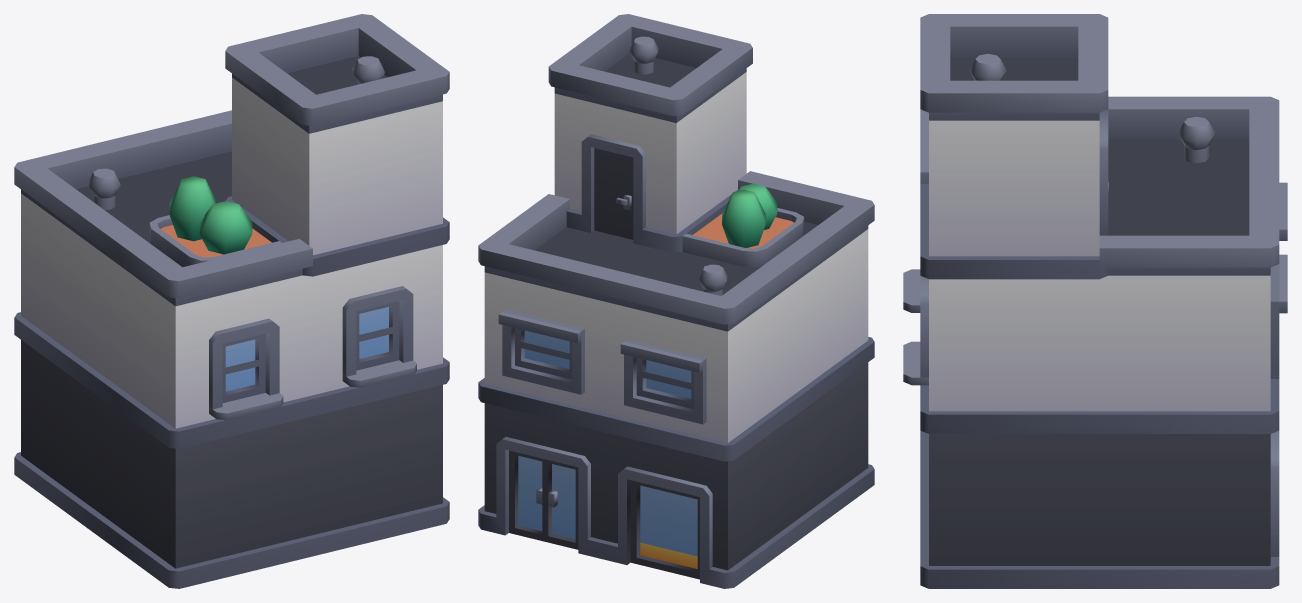
File: building-d.glb
3 views of the same model, side by side, from view 1: azimuth 30°, elevation 25°; view 2: azimuth 150°, elevation 25°; view 3: azimuth 270°, elevation 25° (orthographic). The views are drawn at different scales.
Visible parts, largest first — view 1: building-d; view 2: building-d; view 3: building-d.
Boxes of the visible parts, bbox=[...] form: building-d: bbox=[14, 14, 449, 588]; building-d: bbox=[478, 14, 874, 588]; building-d: bbox=[903, 14, 1287, 588].
Size of the model in its own units: 0.84 by 1.29 by 0.8999.
Materials: 1 (1 with a texture image).
